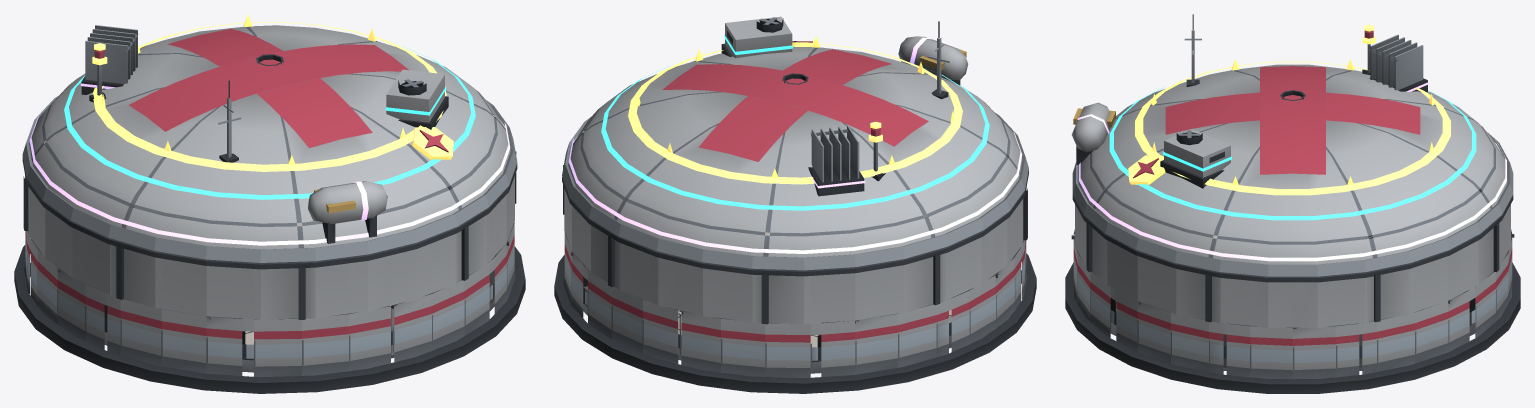
File: medical_s_far.glb
3 renders of one model, left to right at view 1: azimuth 30°, elevation 25°; view 2: azimuth 150°, elevation 25°; view 3: azimuth 270°, elevation 25°, orthographic. The views are drawn at different scales.
Visible parts, largest first — view 1: Roof, Base, L2, L4, L3, L5; view 2: Roof, Base, L2, L4, L3, L5; view 3: Roof, Base, L2, L4, L3, L5.
Boxes of the visible parts, box(x1,y1,x2,y2) form: Roof: box(22, 25, 517, 320); Base: box(14, 185, 525, 393); L2: box(22, 80, 517, 262); L4: box(29, 25, 510, 245); L3: box(64, 46, 475, 199); L5: box(89, 14, 453, 171); Roof: box(562, 47, 1028, 324); Base: box(554, 197, 1036, 393); L2: box(562, 21, 1028, 270); L4: box(568, 36, 1022, 253); L3: box(601, 16, 989, 210); L5: box(628, 35, 962, 184); Roof: box(1072, 64, 1513, 327); Base: box(1065, 189, 1520, 393); L2: box(1072, 14, 1513, 276); L4: box(1071, 34, 1506, 261); L3: box(1109, 87, 1476, 220); L5: box(1128, 24, 1450, 195).
Bounding box in the file's own units: 10.53 × 6.17 × 10.53.
